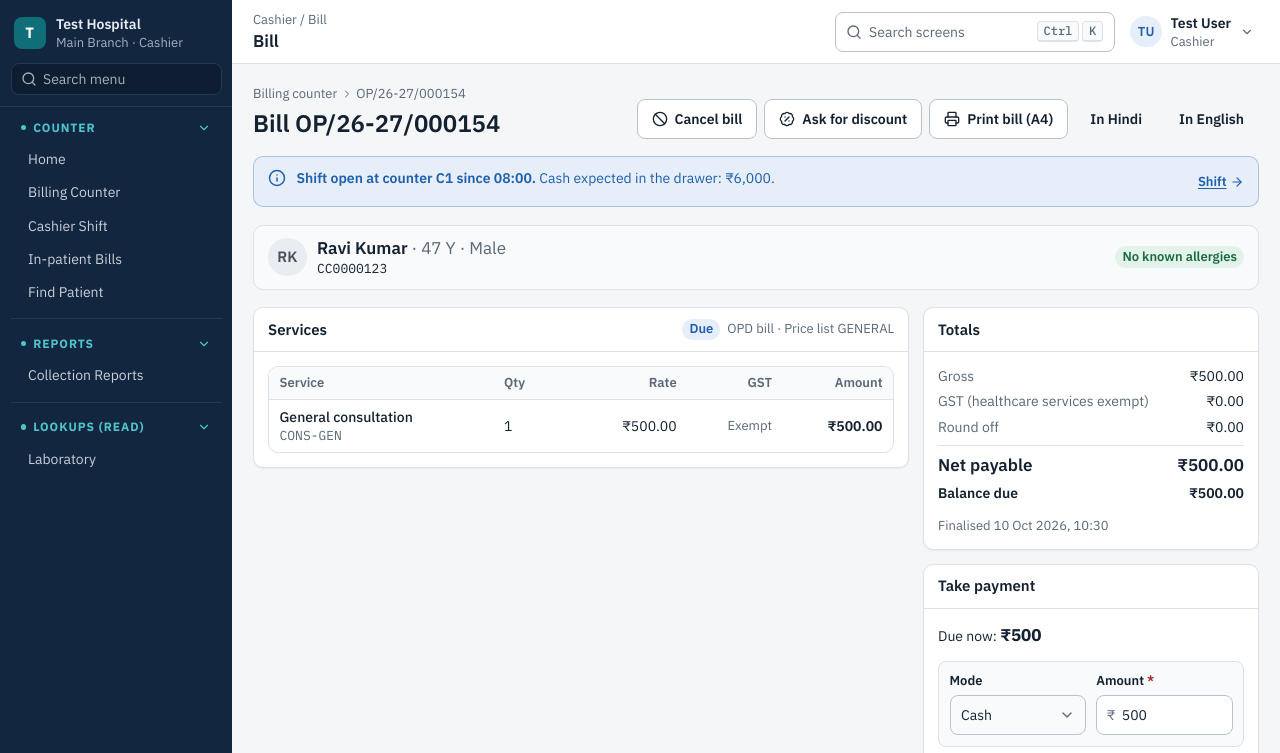
it: Bill › sends a discount over 10% for approval (202) and holds the bill
Click the button "Ask for discount".
click(843, 118)  # box [764,98,922,138]
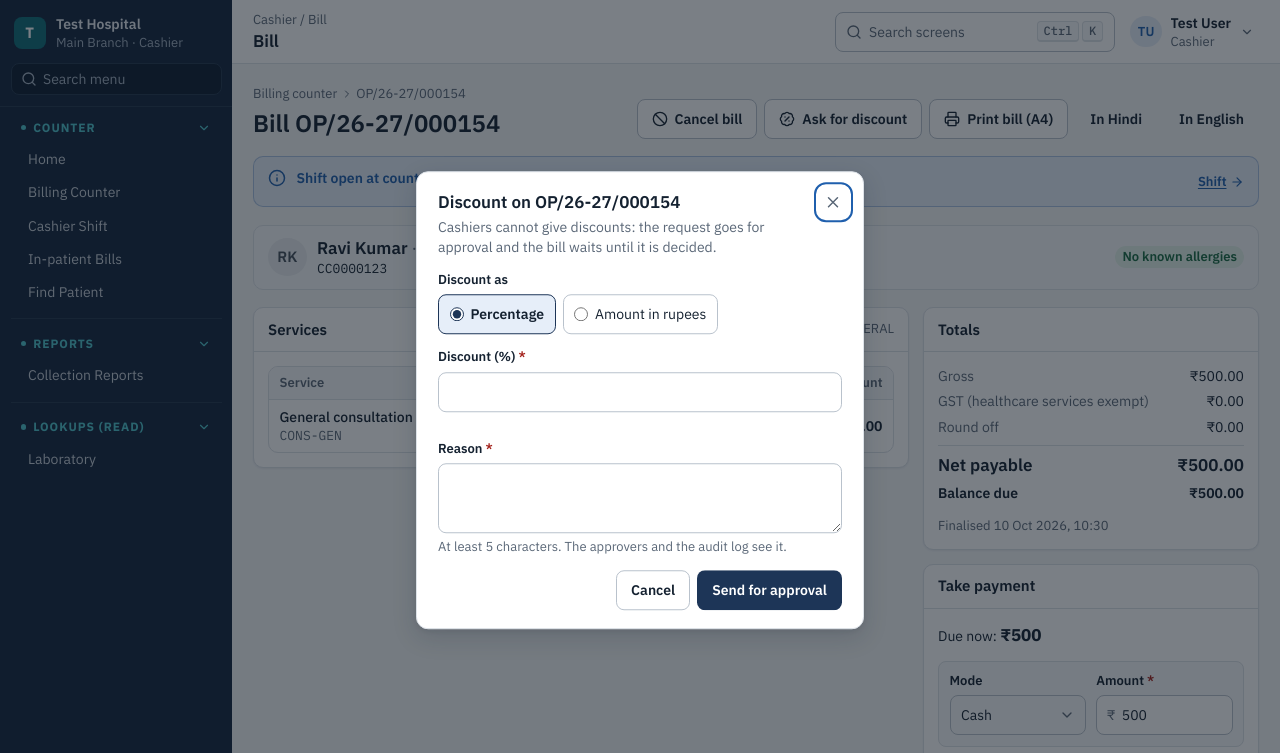
Type "20" into the field labelled "Discount (%) *".
click(640, 392); type("20")  # box [438,372,842,412]
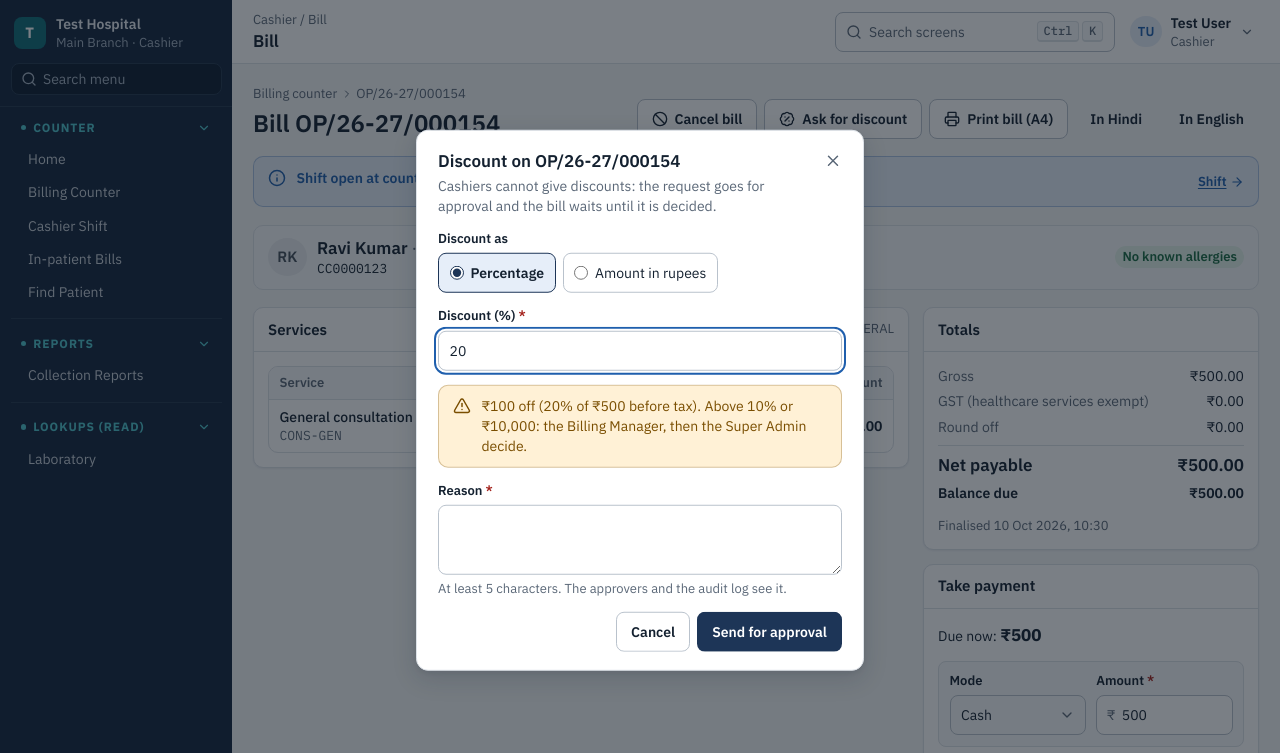
Expected: the text "₹100 off (20% of ₹500" is shown, [482,397,701,415]
Expected: the text "then the Super Admin decide" is shown, [482,397,806,455]
Type "Staff relative" into the text box labelled "Reason *".
click(640, 540); type("Staff relative")  # box [438,504,842,574]
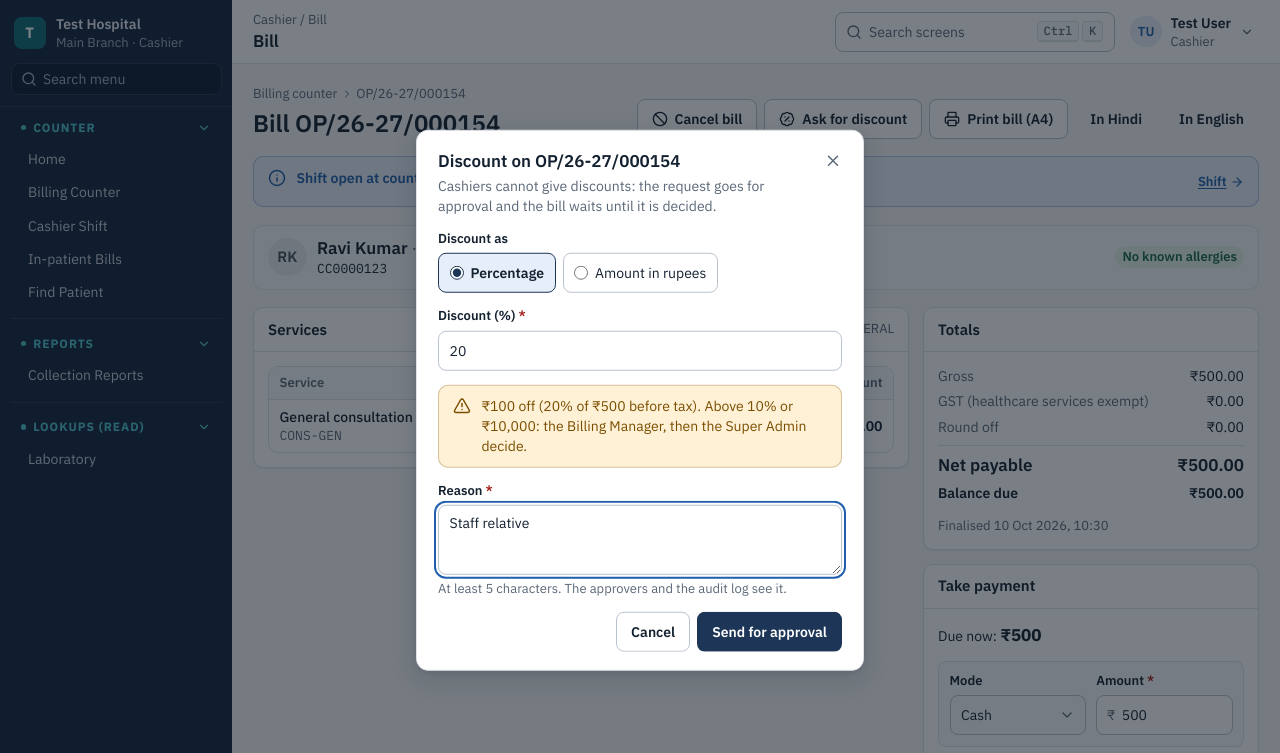
Click the button "Send for approval".
click(770, 632)  # box [697,612,842,652]
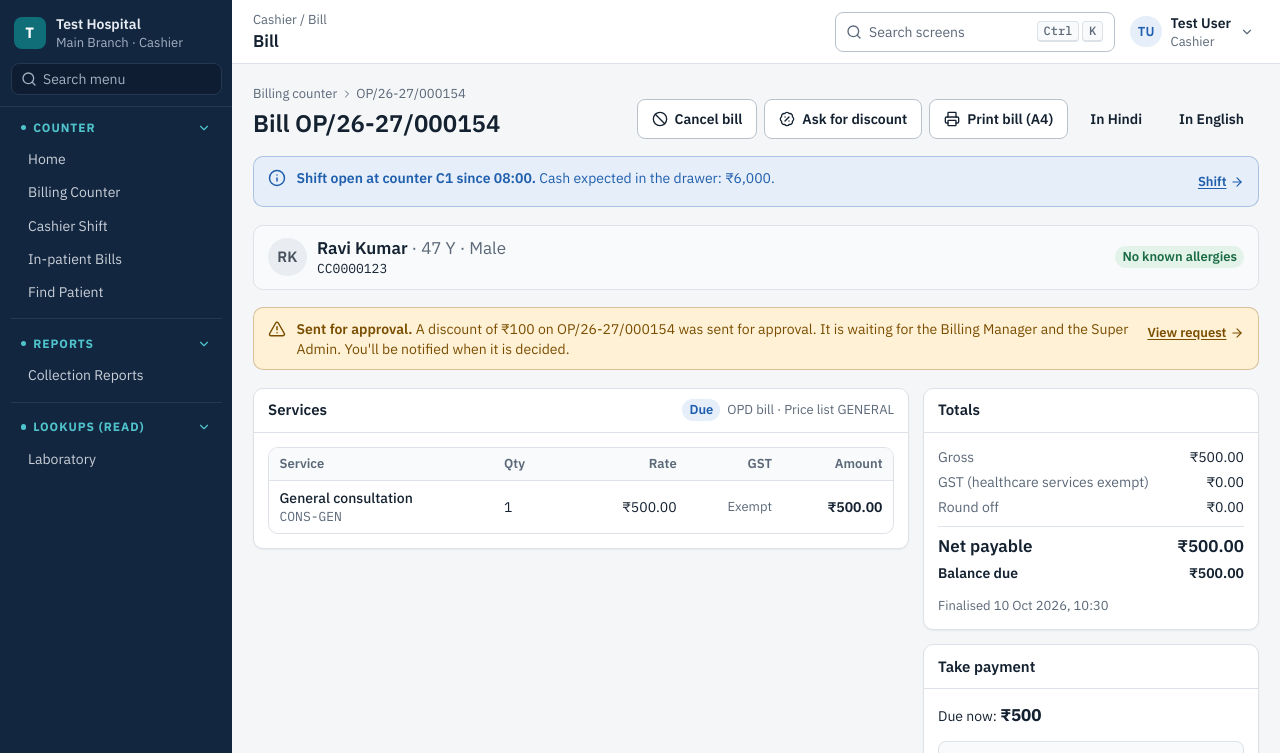
Expected: the text "A discount of ₹100 on OP/26-27/000154 was sent for approval" is shown, [416,320,817,338]
Expected: the text "the Billing Manager and the Super Admin" is shown, [296,320,1128,358]
